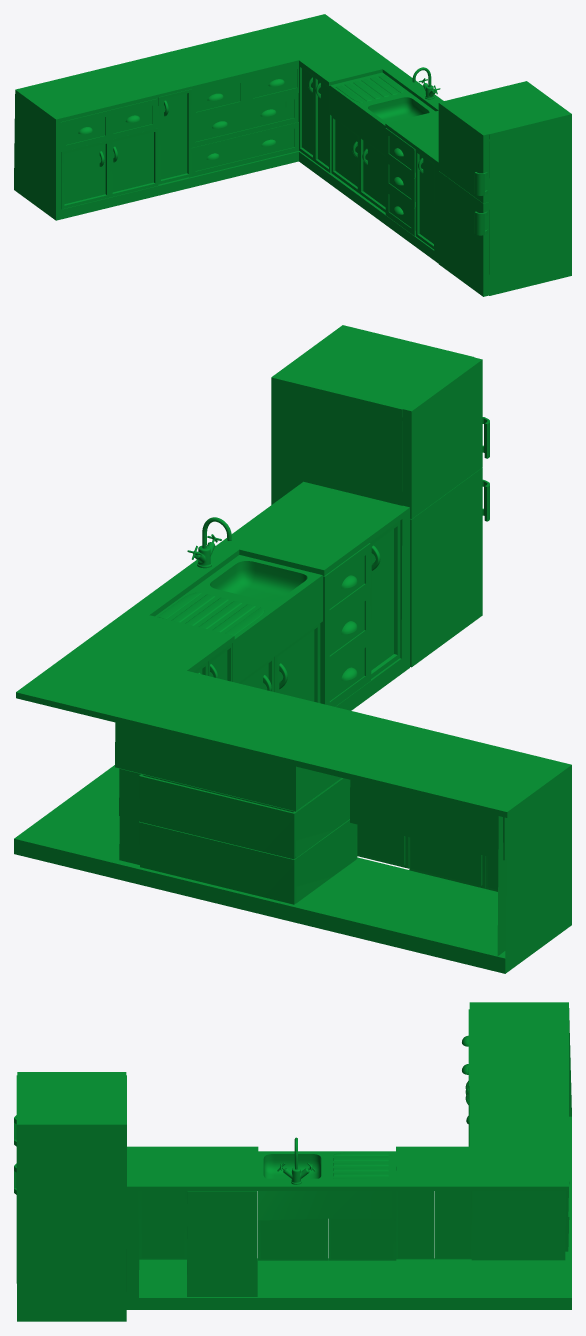
File: Kitchen_part2.fbx
3 views of the same model, one above another, from view 1: azimuth 30°, elevation 25°; view 2: azimuth 150°, elevation 25°; view 3: azimuth 270°, elevation 25° (orthographic). The views are drawn at different scales.
Parts seen in each view (by area): view 1: tiroir_violet001; view 2: tiroir_violet001; view 3: tiroir_violet001.
Part boxes in pixels (box(x1,y1,x2,y2)): tiroir_violet001: box(14, 14, 571, 296); tiroir_violet001: box(14, 325, 571, 973); tiroir_violet001: box(14, 1002, 571, 1321).
Size of the model in its own units: 368 by 172 by 442.
